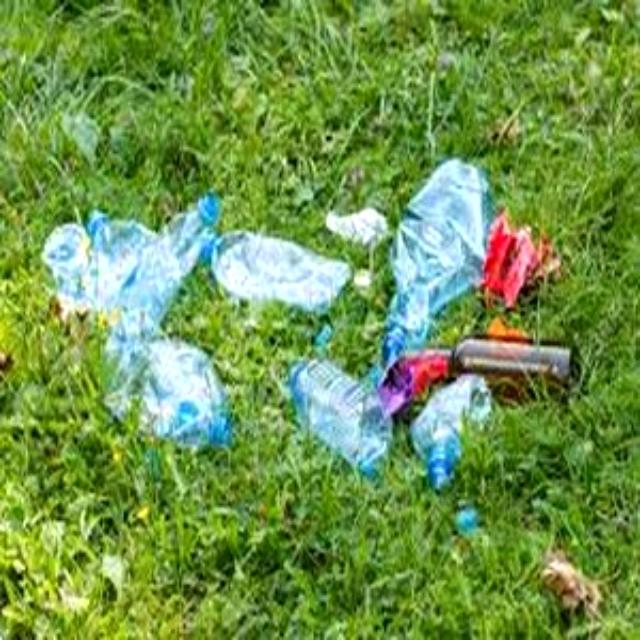Plastic: (378, 156, 486, 357), (105, 179, 228, 329), (102, 326, 235, 446), (201, 228, 355, 314), (290, 362, 392, 468), (408, 370, 494, 488)
